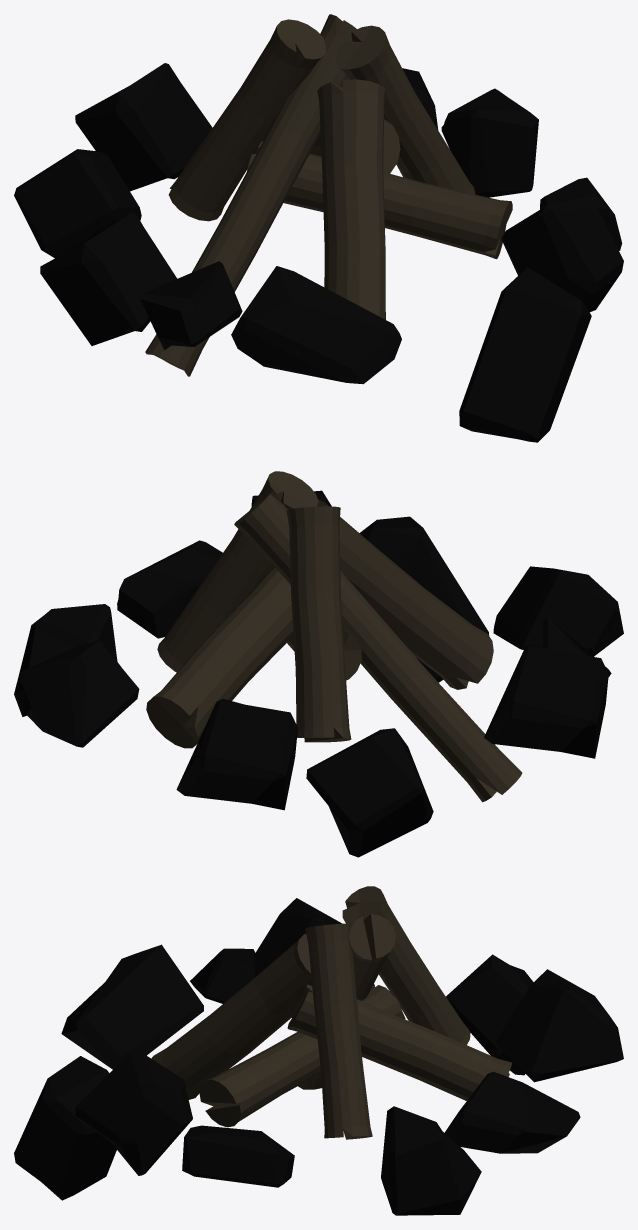
Rendered from campfire1.fbx.
3 renders of one model, top to bottom at view 1: azimuth 30°, elevation 25°; view 2: azimuth 150°, elevation 25°; view 3: azimuth 270°, elevation 25°, orthographic. The views are drawn at different scales.
Visible parts, largest first — view 1: Cube.149; view 2: Cube.149; view 3: Cube.149.
Boxes of the visible parts, x1,y1,x2,y2 form: Cube.149: (14,14,623,442); Cube.149: (14,471,623,857); Cube.149: (14,886,623,1215).
Bounding box in the file's own units: 1263 × 707 × 1411.
